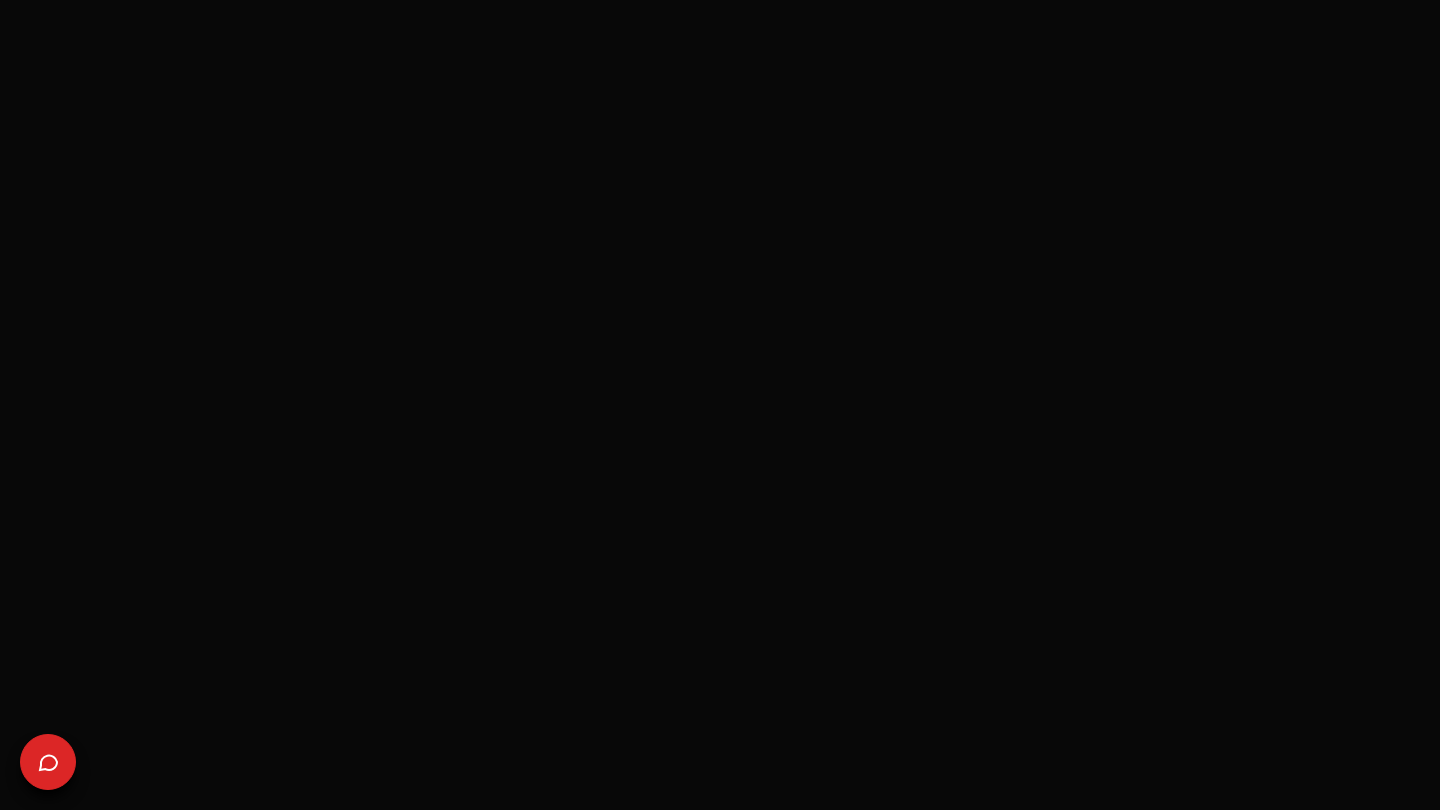
it: ChatWidget › opens and closes the chat window
Click the button named "باز کردن چت". click: {"x": 48, "y": 762}
box: [20,734,76,790]
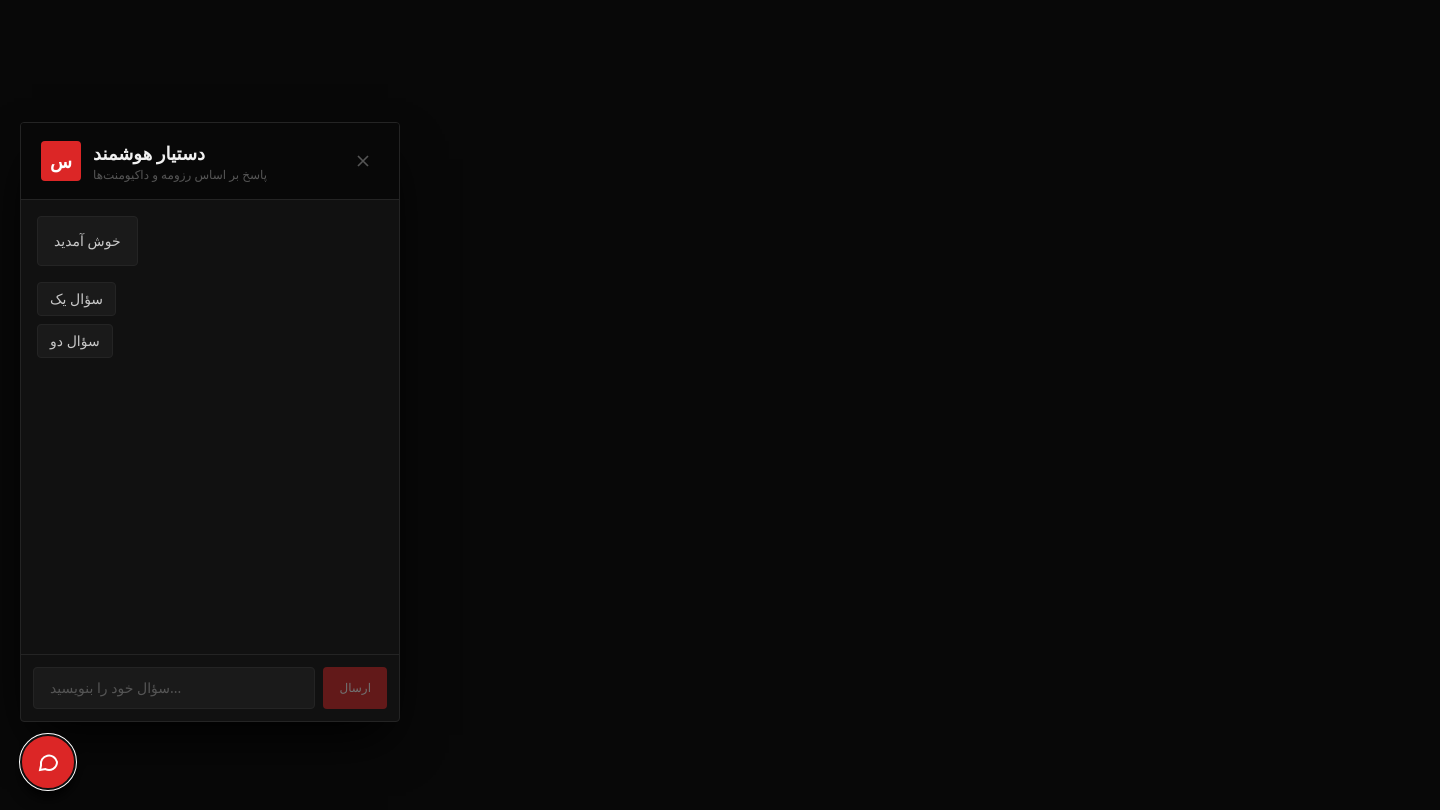
Check: the dialog is shown, box [20,122,400,722]
Check: the text "خوش آمدید" is shown, box [54,227,121,255]
Click the button named "بستن چت" next to "پاسخ بر اساس رزومه و داکیومنت‌ها". click: {"x": 363, "y": 161}
box: [347,145,379,177]
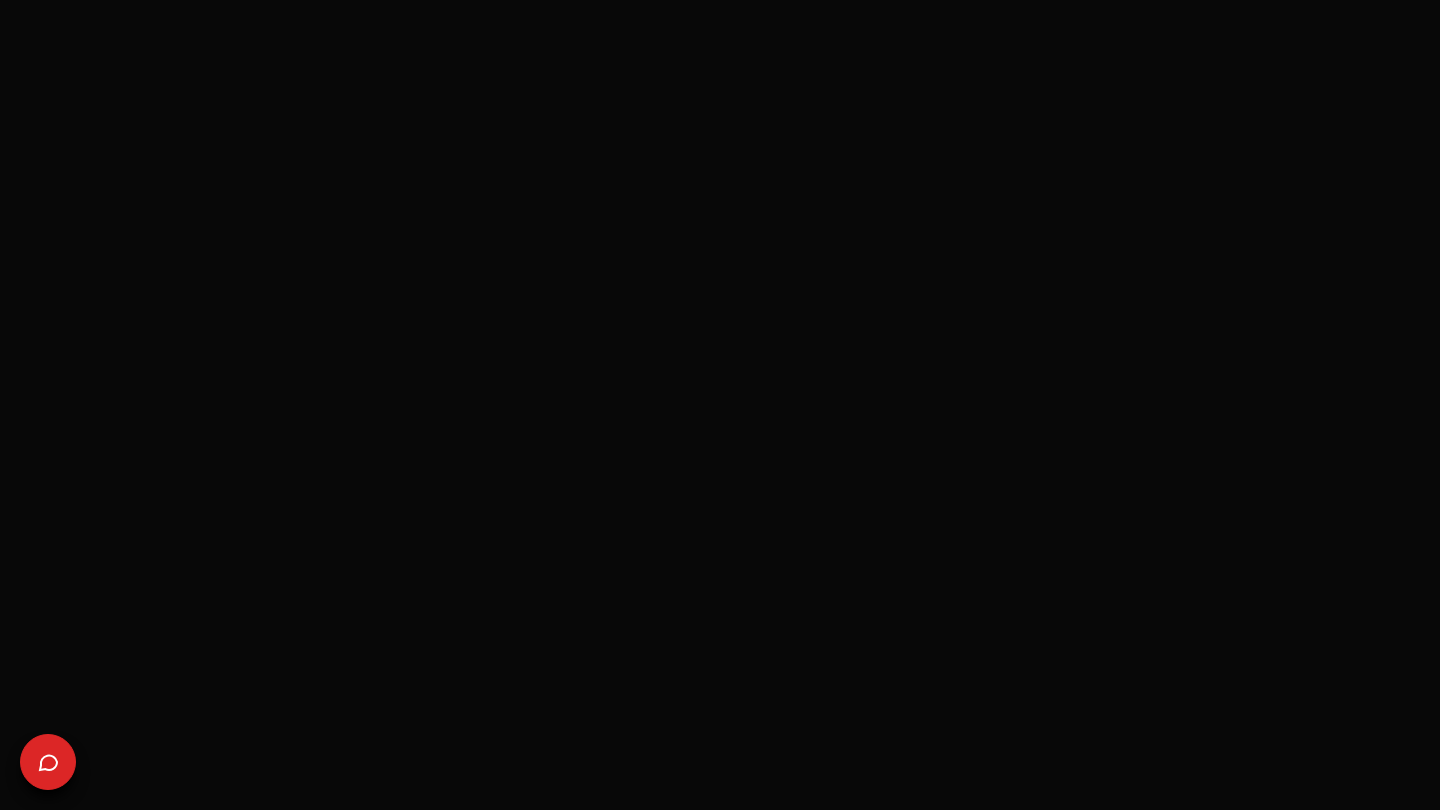
Check: the dialog is gone
